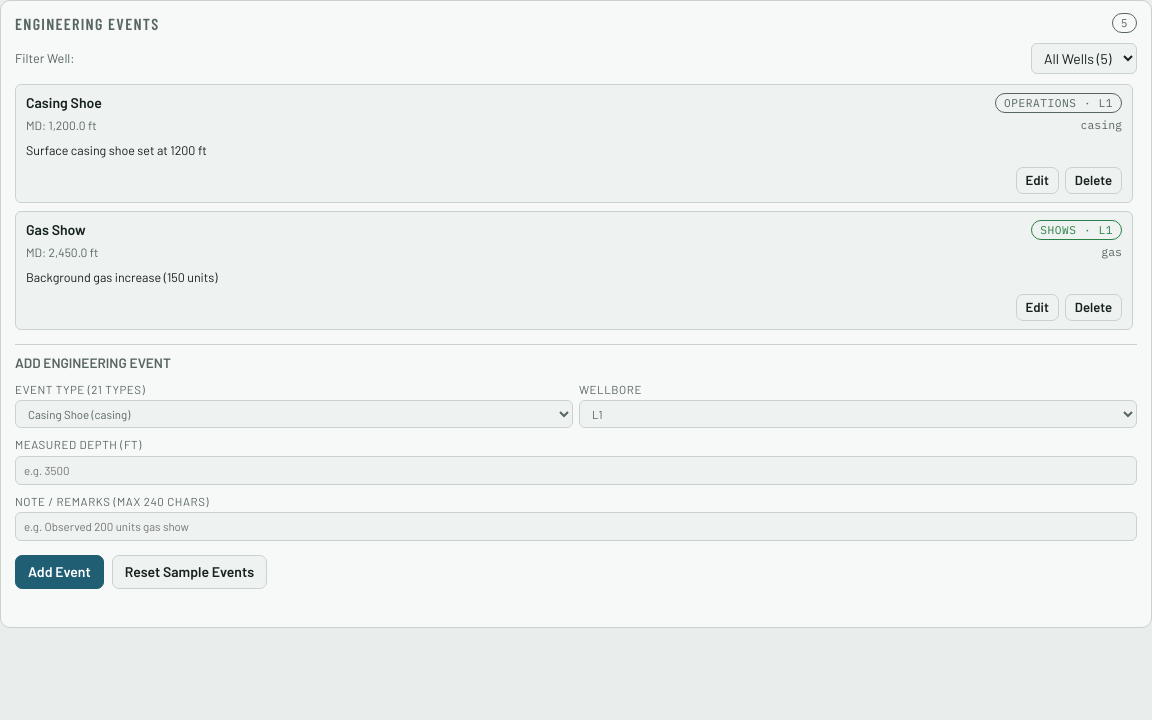
Test: <EventEditor> › adding an event › adds a valid event successfully through the form
Select "Well Kick (kick)" in the dropdown labelled "Event Type (21 types)" at (294, 414), box [15,400,573,428]
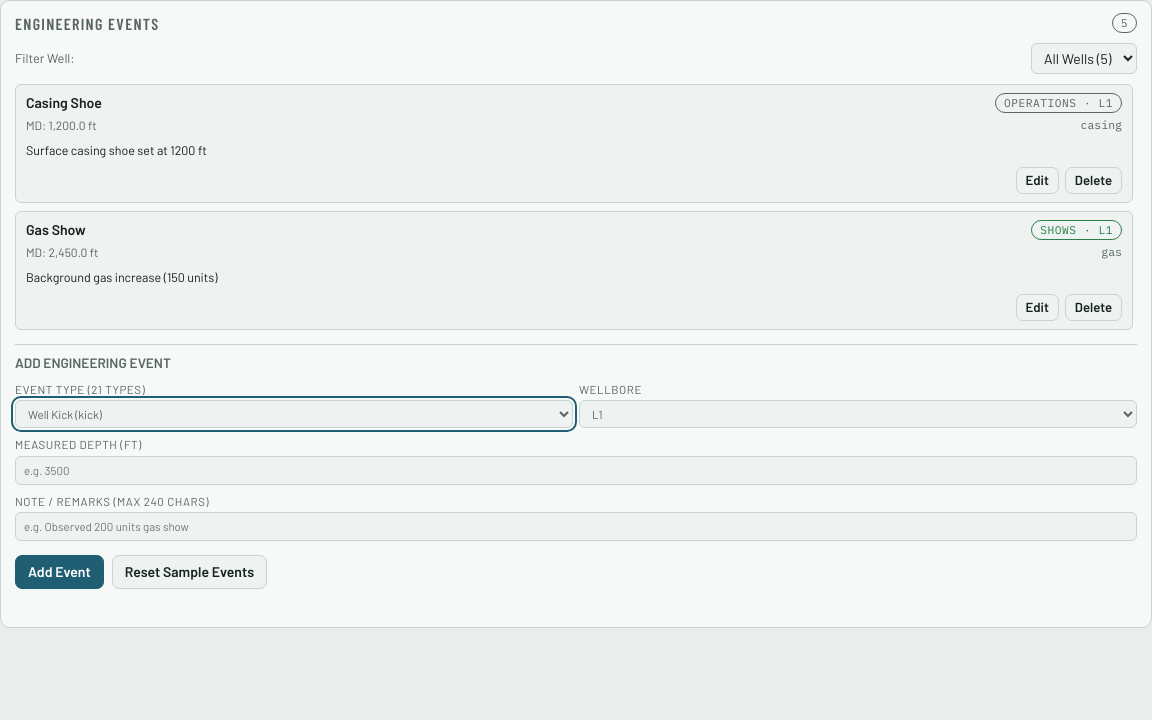
Type "4500" into the number field labelled "Measured Depth (ft)".
click(576, 470); type("4500")  # box [15,456,1137,485]
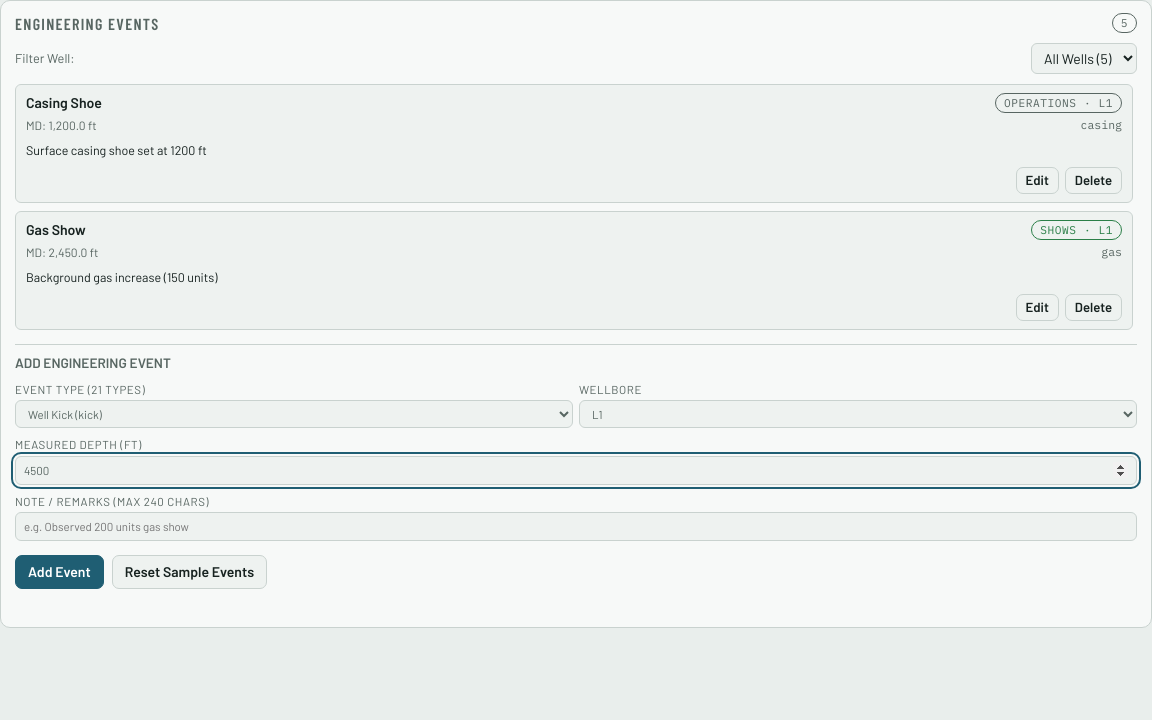
Type "5 bbl kick taken at 4500 ft" into the field named "note or description".
click(576, 527); type("5 bbl kick taken at 4500 ft")  # box [15,512,1137,541]
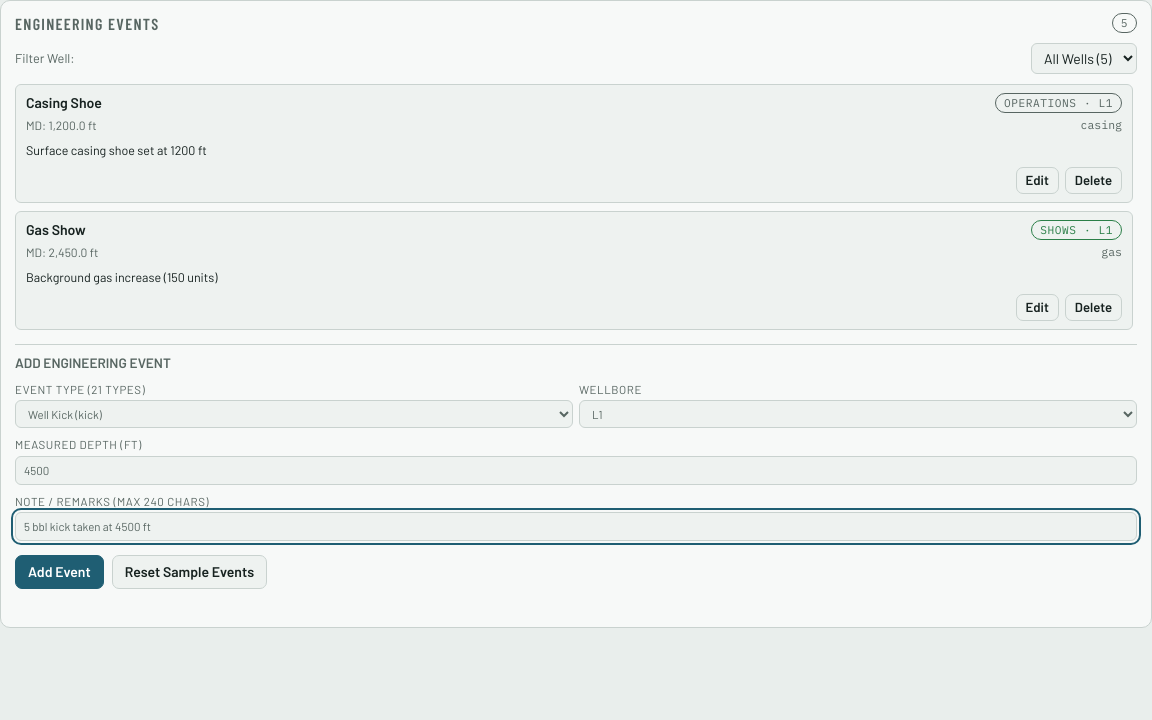
Click the button "Add Event".
click(59, 572)  # box [15,555,104,589]
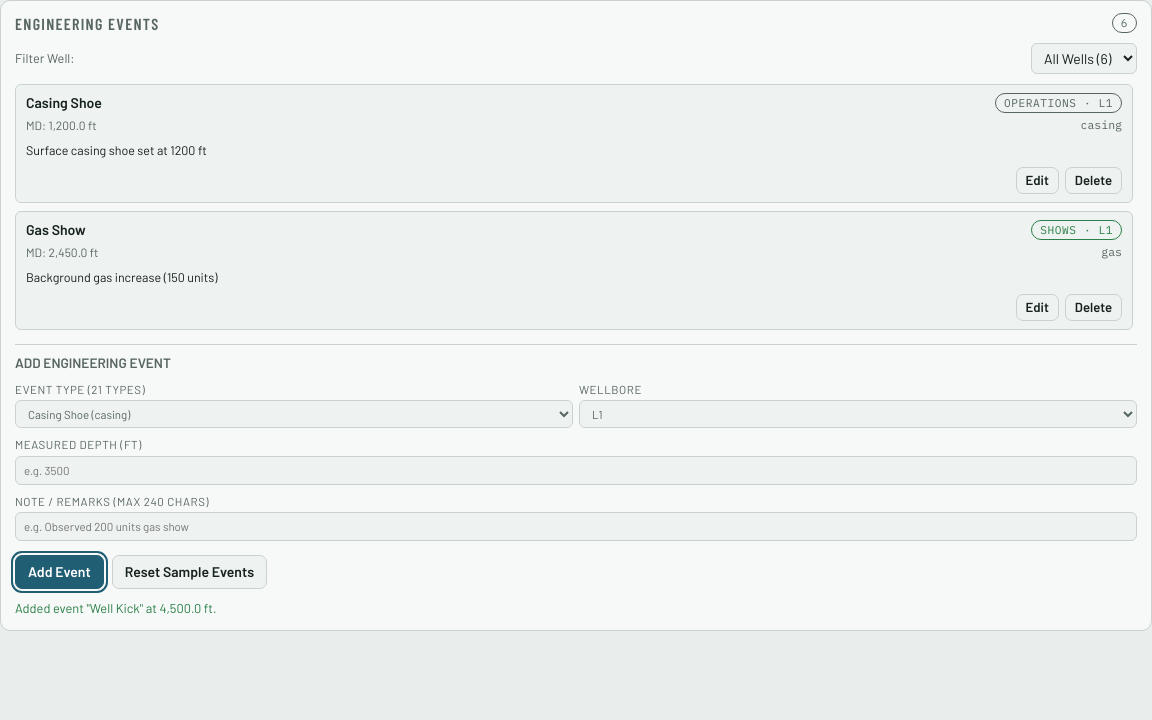
Check: the text "Added event \"Well Kick\" at 4,500.0 ft." is shown, box [15,600,217,616]
